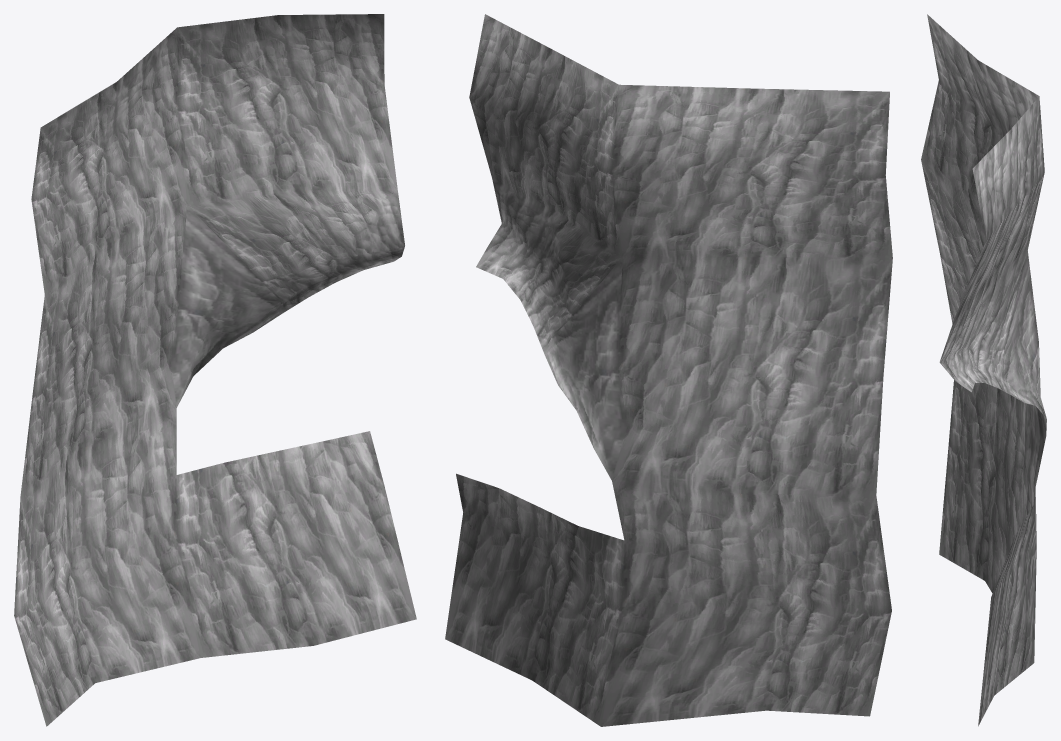
Rendered from SWORDLIGHT20_PS-AREA03_195.fbx.
The picture shows the model from 3 angles, left to right: view 1: azimuth 30°, elevation 25°; view 2: azimuth 150°, elevation 25°; view 3: azimuth 270°, elevation 25°; orthographic projection. The views are drawn at different scales.
Visible parts, largest first — view 1: SWORDLIGHT20_PS-AREA03_195; view 2: SWORDLIGHT20_PS-AREA03_195; view 3: SWORDLIGHT20_PS-AREA03_195.
Boxes of the visible parts, x1=… form: SWORDLIGHT20_PS-AREA03_195: x1=14, y1=14, x2=416, y2=726; SWORDLIGHT20_PS-AREA03_195: x1=445, y1=14, x2=892, y2=726; SWORDLIGHT20_PS-AREA03_195: x1=921, y1=14, x2=1046, y2=726.
Bounding box in the file's own units: 184583 × 267951 × 54504.
2 materials, 2 textured.
